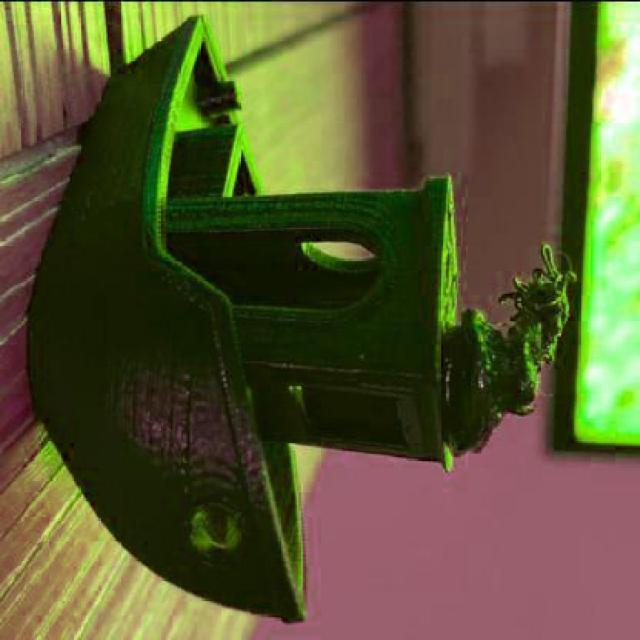spaghetti: (497, 242, 580, 364)
